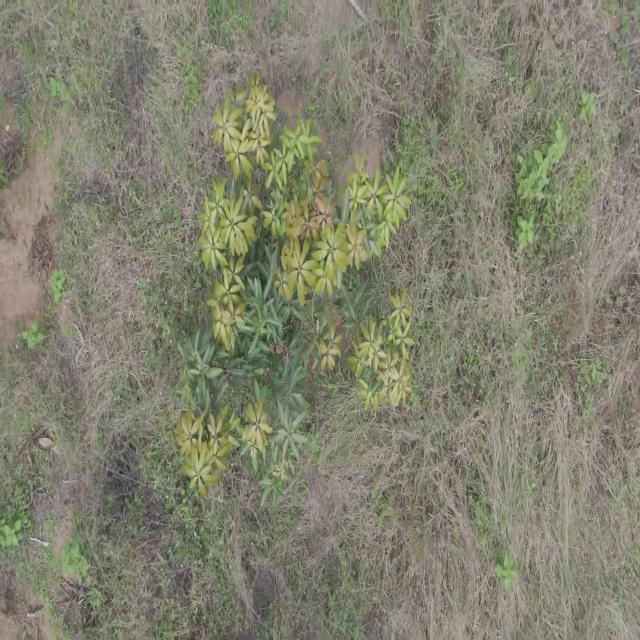mangoTree: (170, 70, 418, 510)
